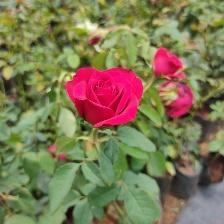rose: (65, 66, 146, 130), (159, 80, 196, 120), (152, 45, 184, 80)
